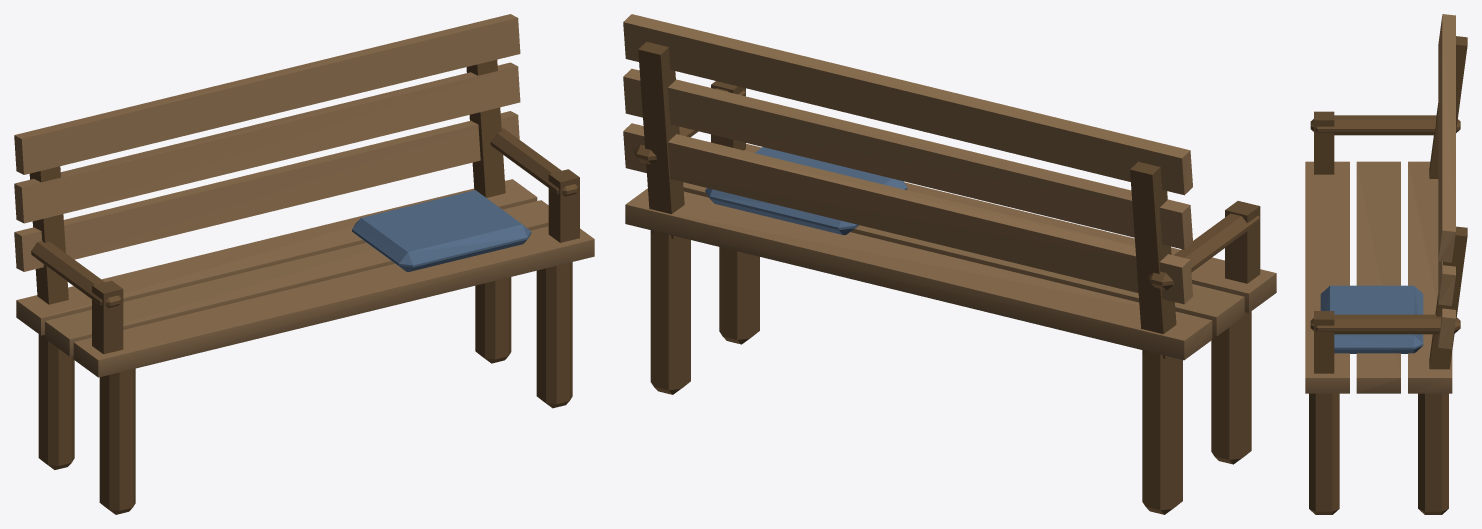
Rendered from plaza_bench_01.glb.
3 renders of one model, left to right at view 1: azimuth 30°, elevation 25°; view 2: azimuth 150°, elevation 25°; view 3: azimuth 270°, elevation 25°, orthographic. The views are drawn at different scales.
Visible parts, largest first — view 1: plaza_bench_01; view 2: plaza_bench_01; view 3: plaza_bench_01.
Part boxes in pixels (box(x1,y1,x2,y2)): plaza_bench_01: box(14, 14, 594, 514); plaza_bench_01: box(623, 14, 1276, 514); plaza_bench_01: box(1305, 14, 1467, 514).
Bounding box in the file's own units: 1.5 × 0.952 × 0.4747.
